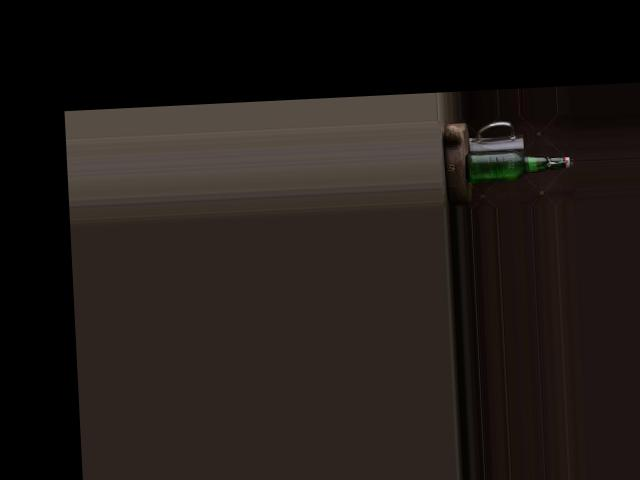beer: (465, 147, 570, 182)
